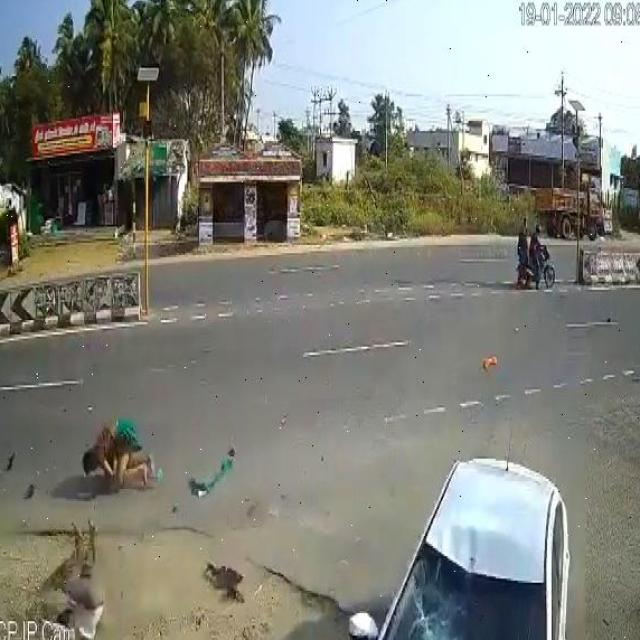accident: (352, 425, 576, 640)
